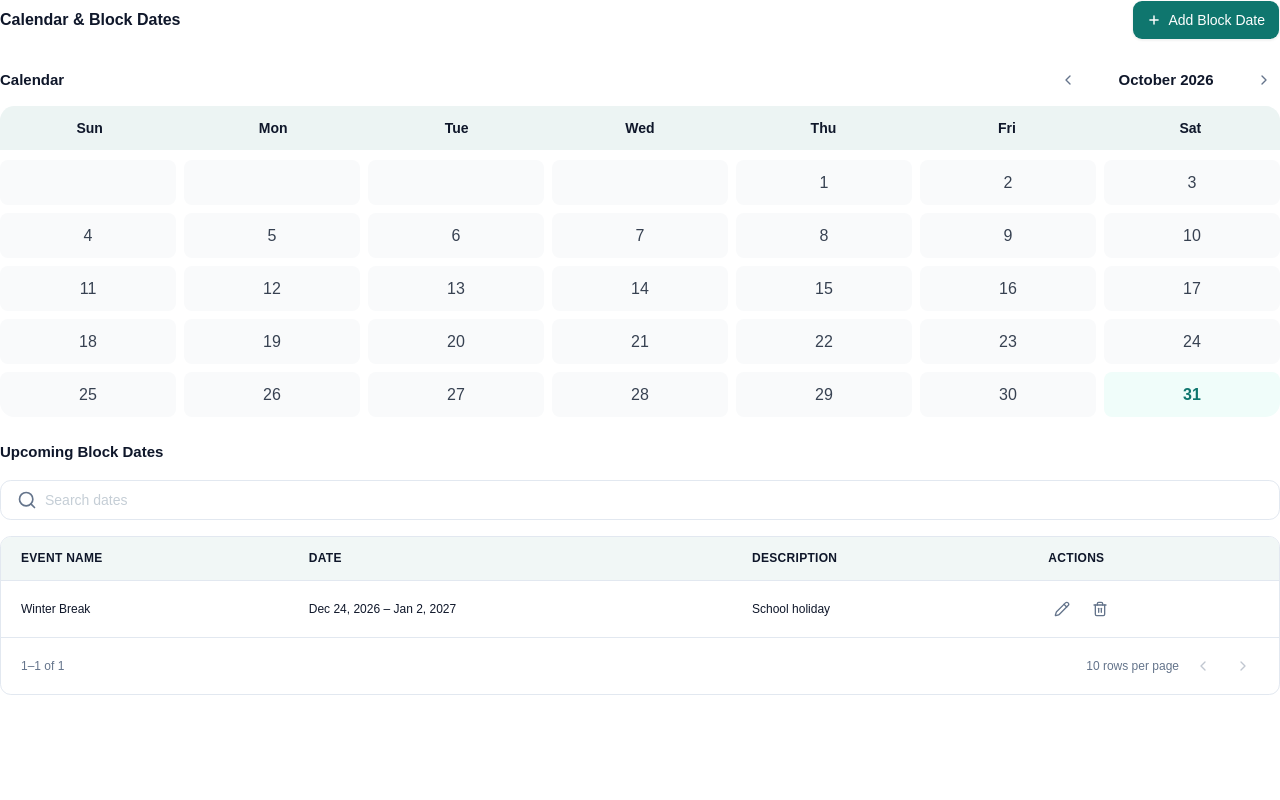
Test case: BlockDatesPanel modal and actions › opens archive confirmation dialog when Archive is clicked
The image size is (1280, 800).
Expected: the text "Winter Break" is shown, [1,580,289,637]
What coordinates should you click on to do the following:
click the button named "Archive Winter Break"
I would click on:
 (1100, 609)
Its box is [1086,595,1114,623].
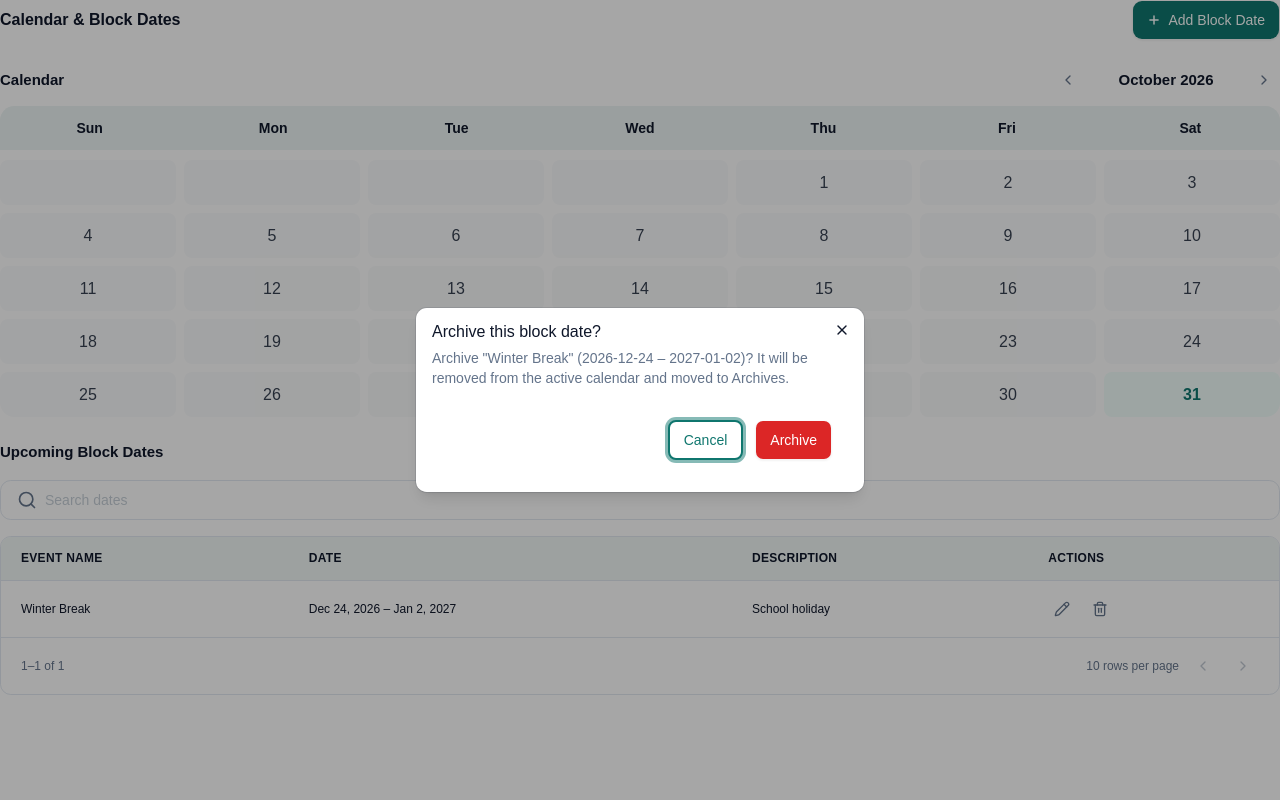
Expected: the heading "Archive this block date?" is shown, [432,323,601,340]
